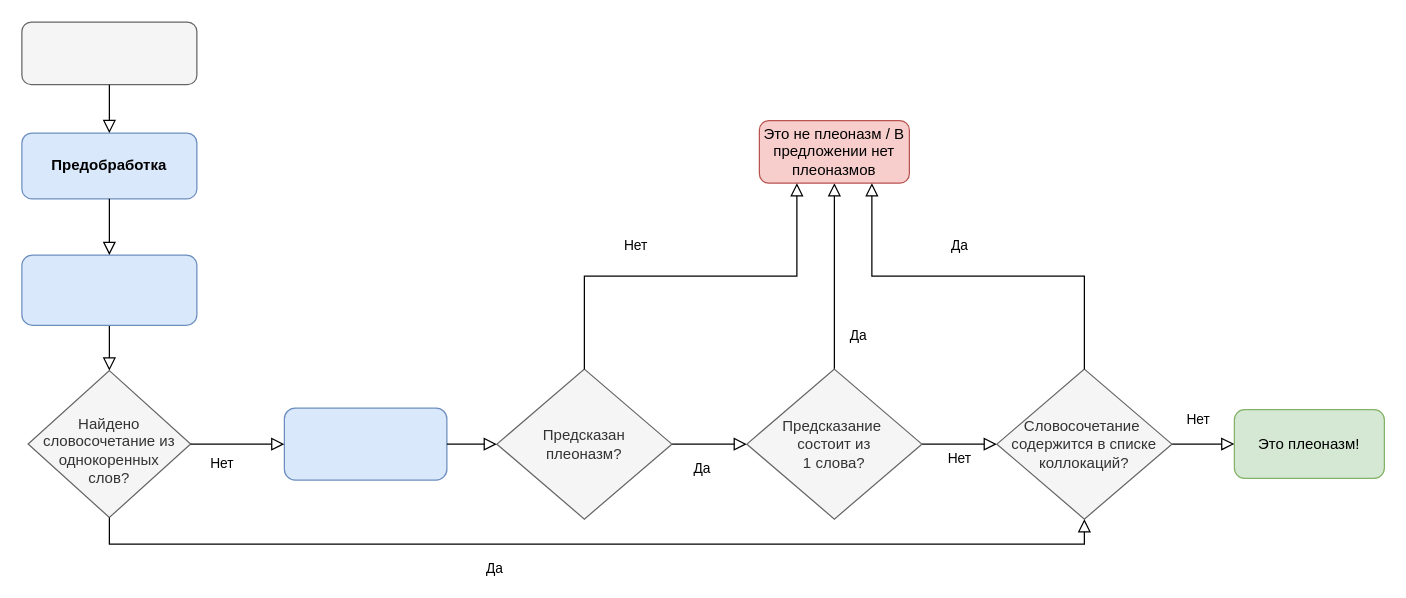
The diagram is 1406 pixels wide and 598 high, and some of its shapes have lost their labels. Each missing label, with the centre of its shape:
"Классификатор наличия однокоренных слов в предложении" goes at [109,289].
"Модель разметки последовательности" goes at [365,443].
"предложение" goes at [109,53].
